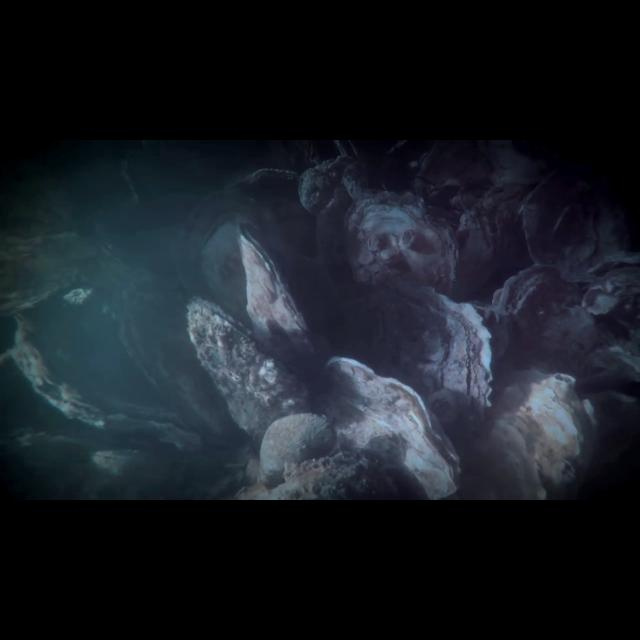Oyster-Closed: (340, 280, 504, 441), (10, 314, 204, 448), (314, 353, 469, 499), (107, 267, 237, 437), (183, 296, 318, 447), (467, 361, 606, 496), (340, 186, 470, 297), (0, 230, 128, 315), (257, 411, 336, 487), (495, 263, 569, 332), (229, 163, 299, 189)
Oyster-Open: (197, 220, 328, 383)
